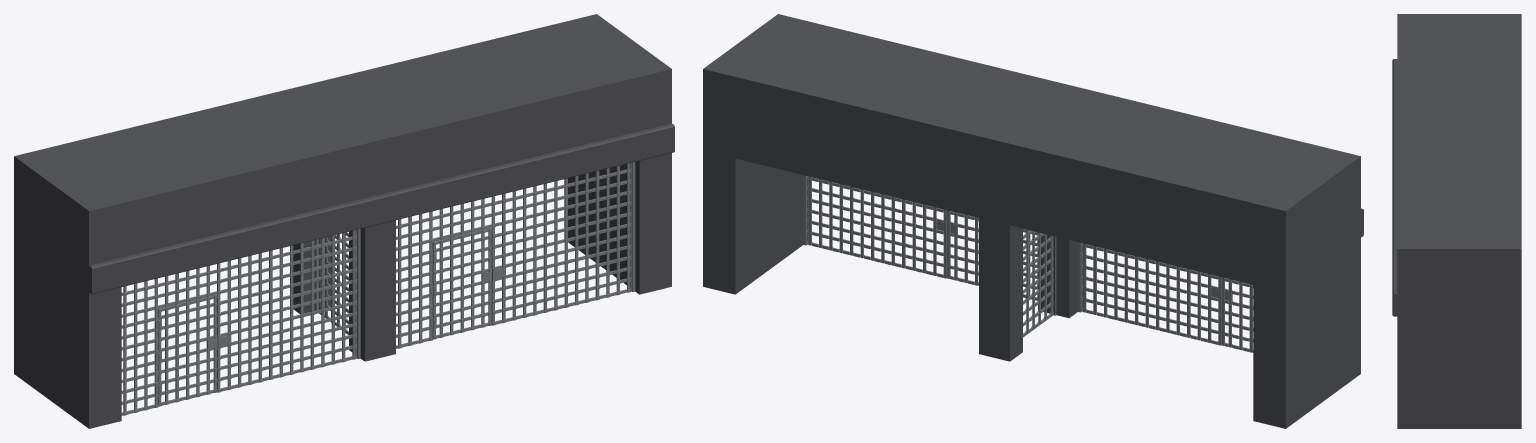
File: Reliquia_Cata_Geole.FBX
The picture shows the model from 3 angles, left to right: view 1: azimuth 30°, elevation 25°; view 2: azimuth 150°, elevation 25°; view 3: azimuth 270°, elevation 25°; orthographic projection. The views are drawn at different scales.
Visible parts, largest first — view 1: Reliquia_Cata_Geôle; view 2: Reliquia_Cata_Geôle; view 3: Reliquia_Cata_Geôle.
Boxes of the visible parts, x1=… form: Reliquia_Cata_Geôle: x1=14, y1=14, x2=674, y2=428; Reliquia_Cata_Geôle: x1=703, y1=14, x2=1363, y2=428; Reliquia_Cata_Geôle: x1=1392, y1=14, x2=1521, y2=428.
Bounding box in the file's own units: 1120 × 400 × 260.
